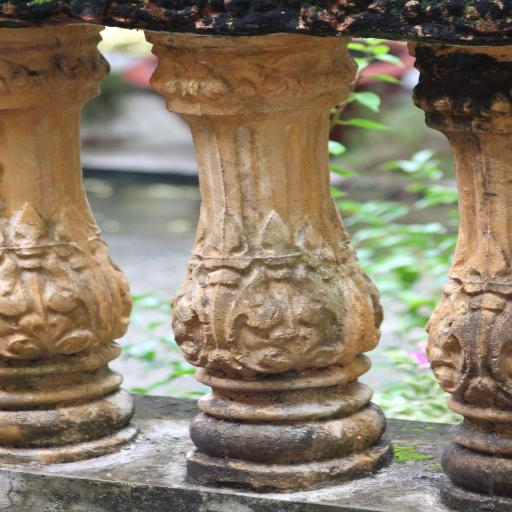la: (184, 216, 370, 370), (0, 211, 113, 358), (432, 238, 512, 401)
